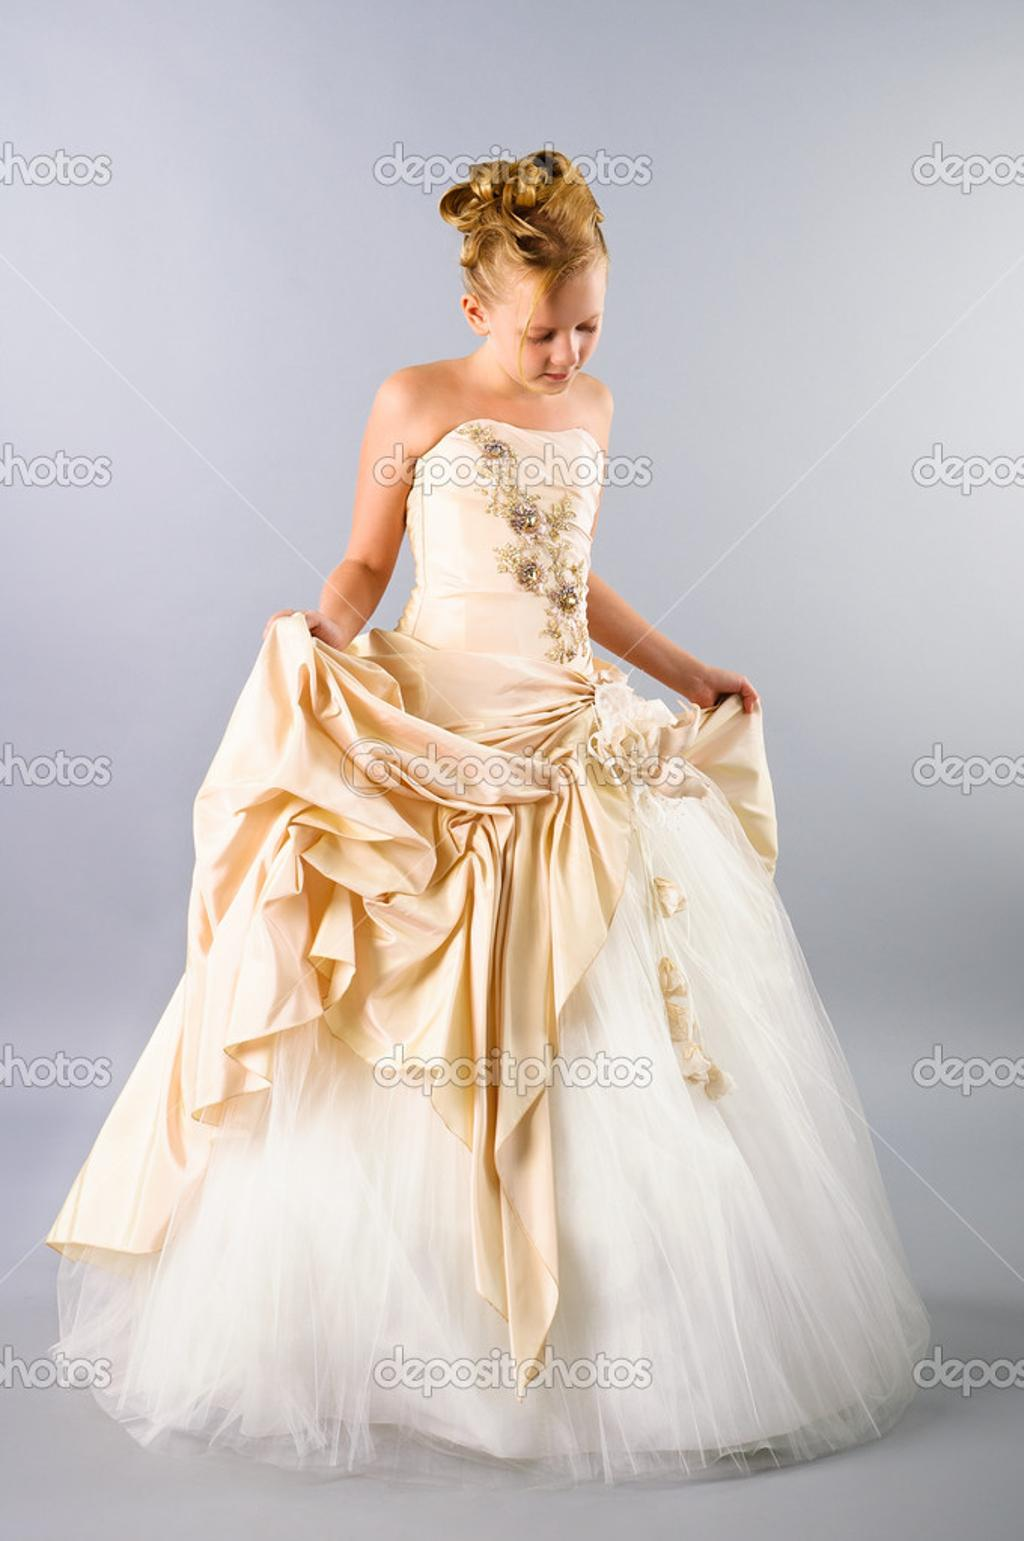face: (491, 250, 602, 395)
